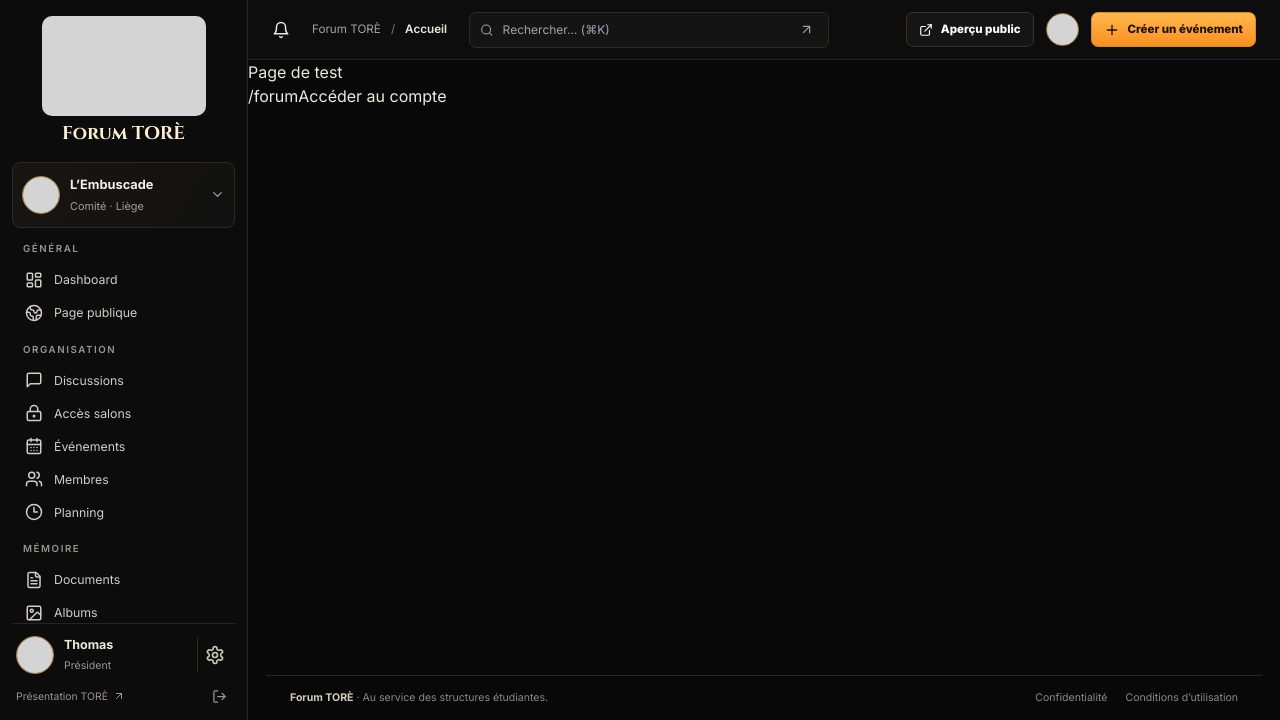
Scenario: Forum shared navigation › shows the managed committee and its real logo on the Forum home
Expected: the button with aria-label "Changer de structure" shows "L’Embuscade", [12,162,235,228]
Expected: the button with aria-label "Changer de structure" shows "Comité · Liège", [12,162,235,228]
Click the link "Accéder au compte". click: (372, 96)
box: [298,86,446,106]
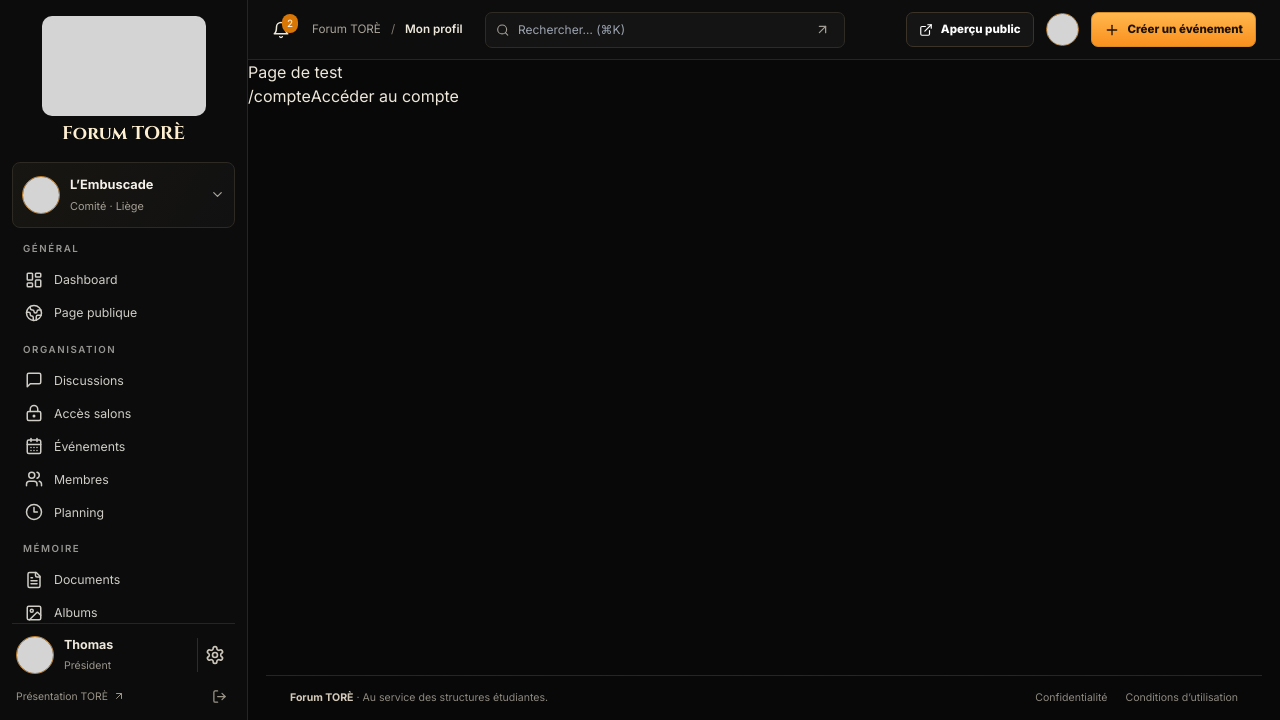
Now the text with test id "route" reads "/compte", box [248,86,311,106]
